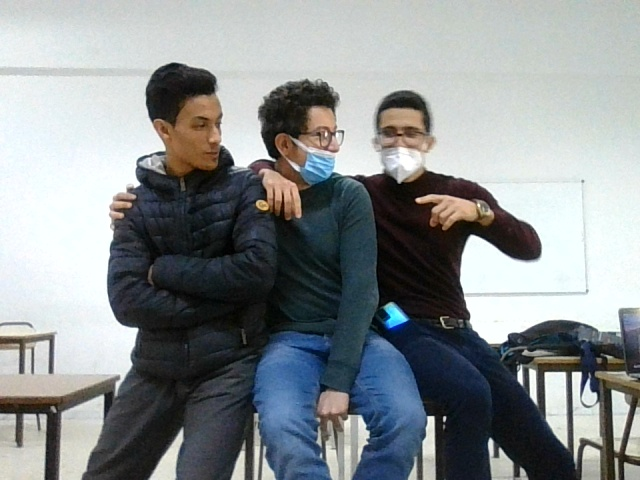mask_weared_incorrect: (256, 79, 351, 189), (370, 83, 444, 191)
without_mask: (142, 63, 228, 175)
